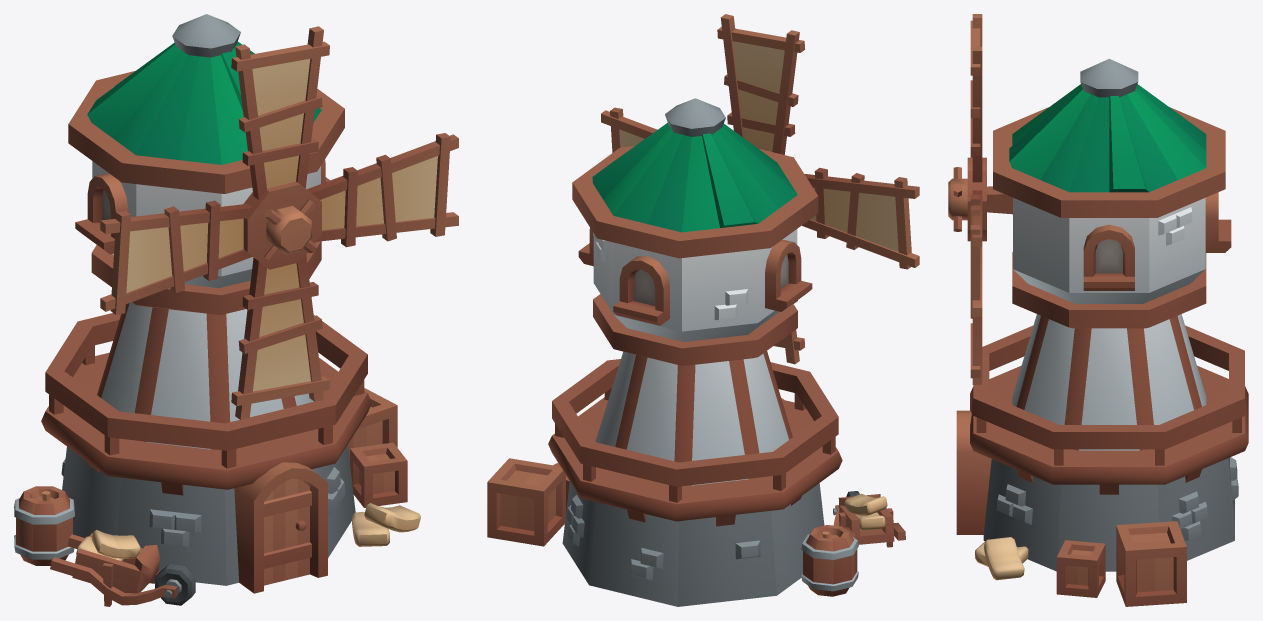
File: windmill_green.glb
3 views of the same model, side by side, from view 1: azimuth 30°, elevation 25°; view 2: azimuth 150°, elevation 25°; view 3: azimuth 270°, elevation 25° (orthographic). The views are drawn at different scales.
Visible parts, largest first — view 1: windmill_green; view 2: windmill_green; view 3: windmill_green.
Part boxes in pixels (x1=…): windmill_green: x1=14, y1=14, x2=458, y2=606; windmill_green: x1=487, y1=14, x2=919, y2=606; windmill_green: x1=948, y1=14, x2=1248, y2=606.
Size of the model in its own units: 0.5629 by 0.7289 by 0.4083.
Materials: 1 (1 with a texture image).
